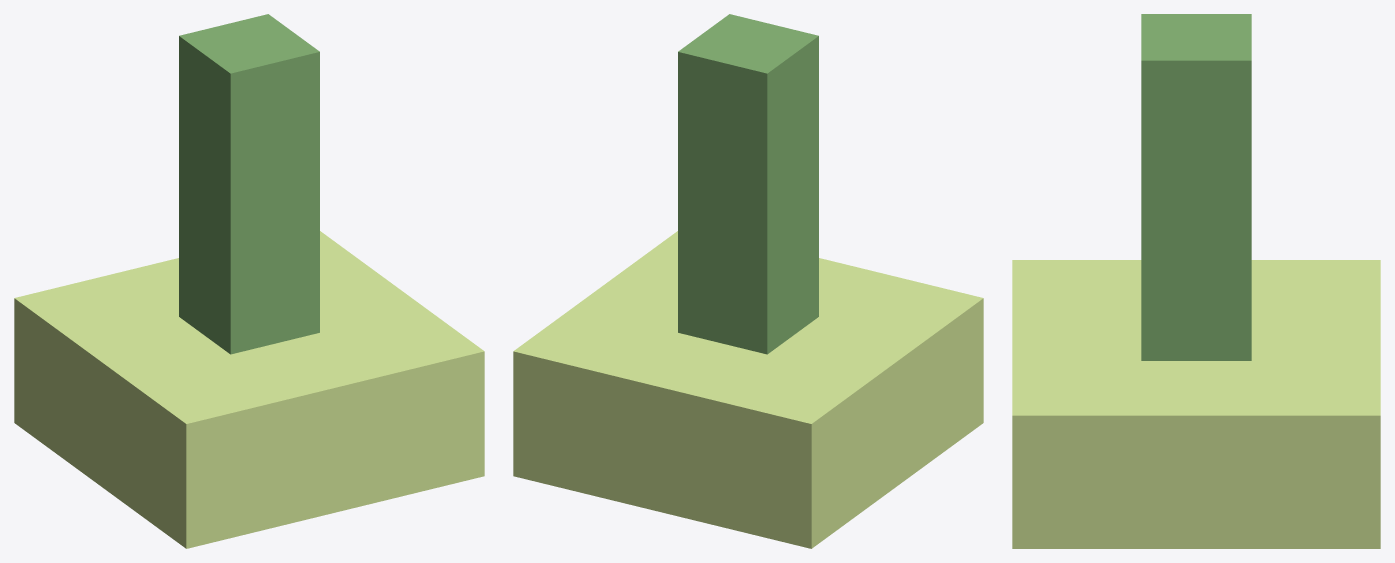
The model's file is Item_DS_Herb_DefragMoss.glb.
3 views of the same model, side by side, from view 1: azimuth 30°, elevation 25°; view 2: azimuth 150°, elevation 25°; view 3: azimuth 270°, elevation 25° (orthographic). The views are drawn at different scales.
Visible parts, largest first — view 1: Item_DS_Herb_DefragMoss; view 2: Item_DS_Herb_DefragMoss; view 3: Item_DS_Herb_DefragMoss.
Boxes of the visible parts, x1,y1,x2,y2 form: Item_DS_Herb_DefragMoss: (14,14,484,548); Item_DS_Herb_DefragMoss: (513,14,983,548); Item_DS_Herb_DefragMoss: (1012,14,1380,548).
Bounding box in the file's own units: 0.2 × 0.26 × 0.2.
